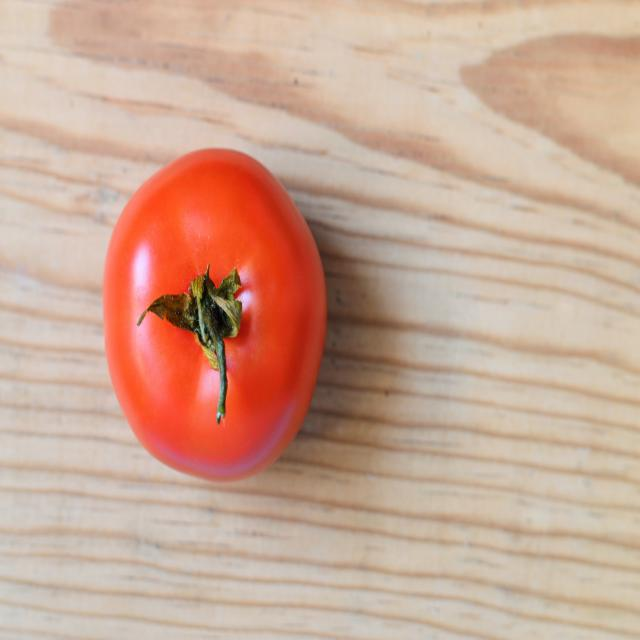Tomato: (92, 142, 332, 493)
